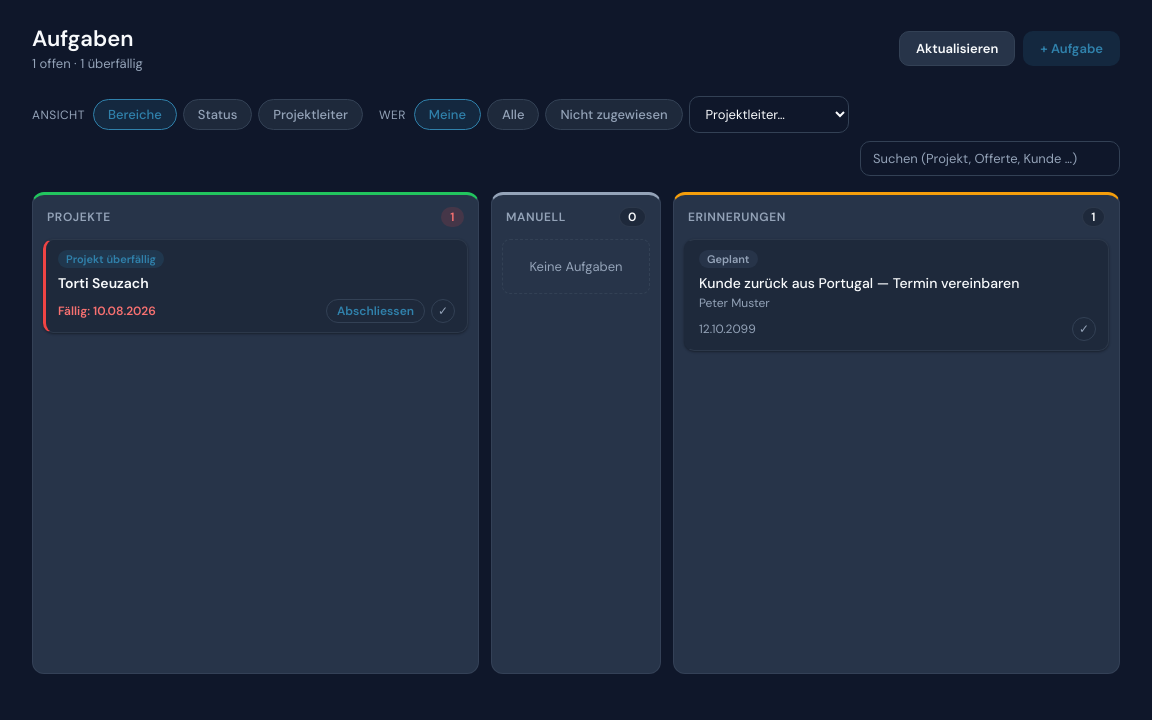
Test case: TaskBoardScreen — Erinnerungen › setzt aus dem Karten-Detail eine Erinnerung am Projekt der Karte
The width and height of the screenshot is (1152, 720).
Click the text "Torti Seuzach".
click(103, 283)  # box [58,274,149,292]
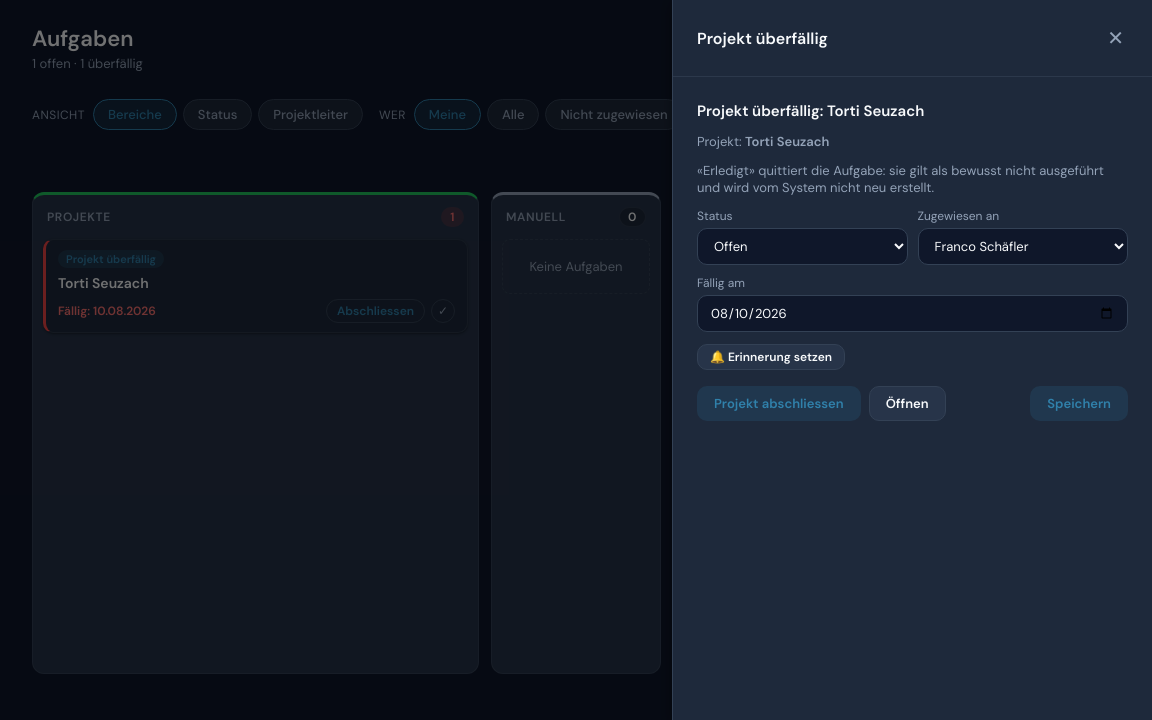
Click the button "🔔 Erinnerung setzen".
click(771, 357)  # box [697,344,845,370]
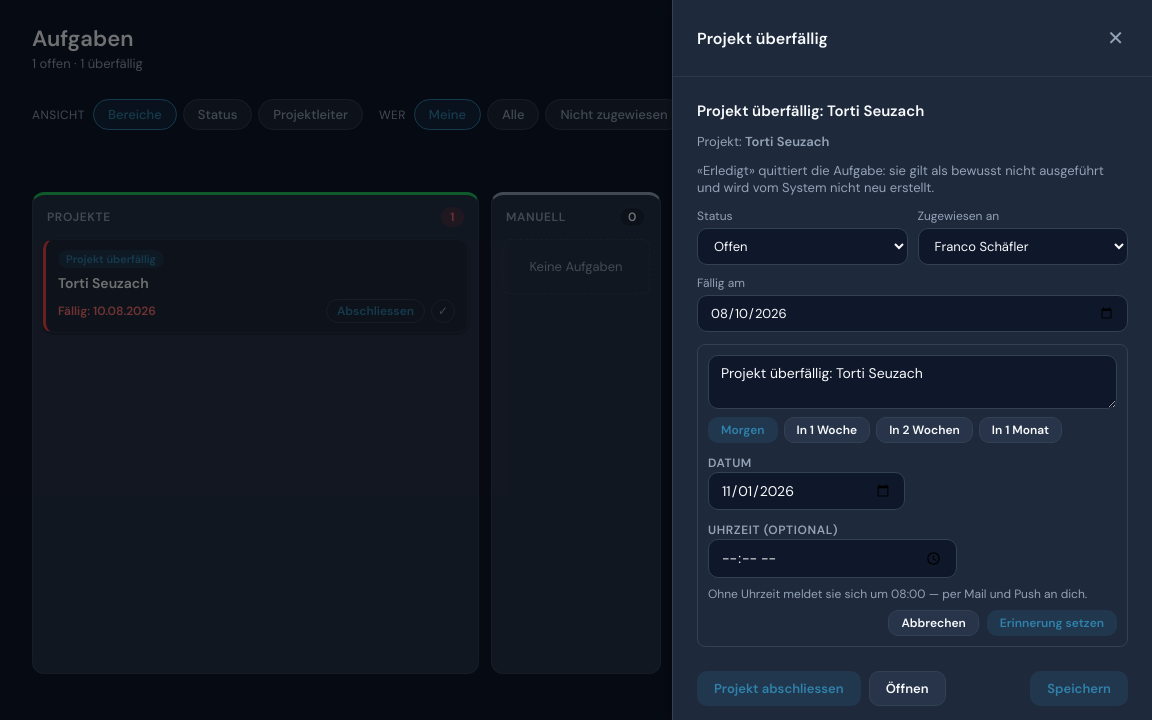
Click the button "Erinnerung setzen".
click(1052, 623)  # box [987,610,1117,636]
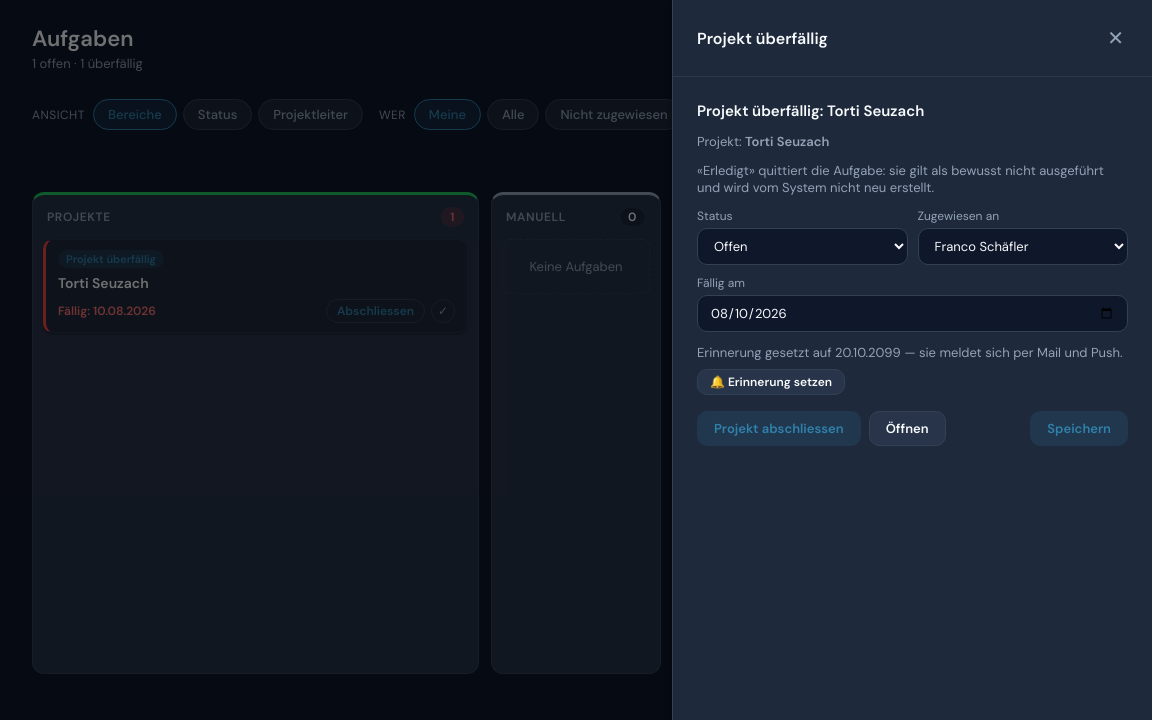
Expected: the text "Projekt überfällig: Torti Seuzach" is shown, [697,101,924,121]
Expected: the text "Erinnerung gesetzt auf 20.10.2099" is shown, [697,344,1122,361]
